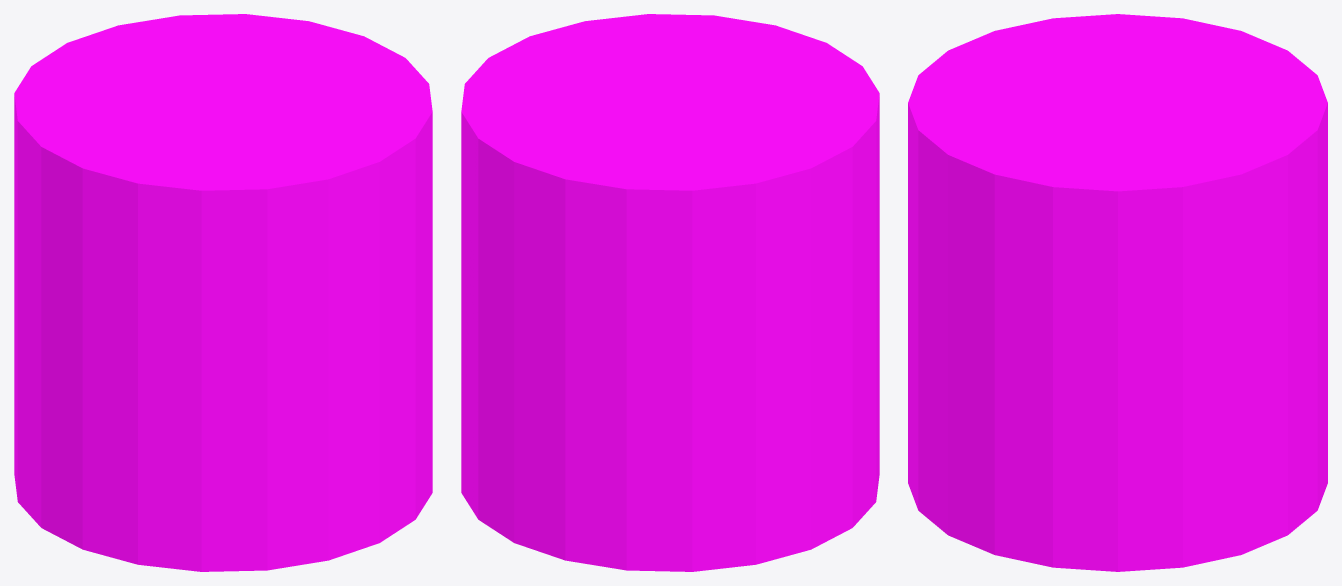
Rendered from arm_occluders.glb.
3 renders of one model, left to right at view 1: azimuth 30°, elevation 25°; view 2: azimuth 150°, elevation 25°; view 3: azimuth 270°, elevation 25°, orthographic.
Parts seen in each view (by area): view 1: occ_left; view 2: occ_left; view 3: occ_left.
Boxes of the visible parts, box(x1,y1,x2,y2) form: occ_left: box(14, 14, 432, 571); occ_left: box(461, 14, 879, 571); occ_left: box(908, 14, 1327, 571).
Size of the model in its own units: 1 by 1 by 1.
